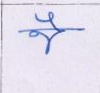ai_matra: (35, 13, 61, 28)
